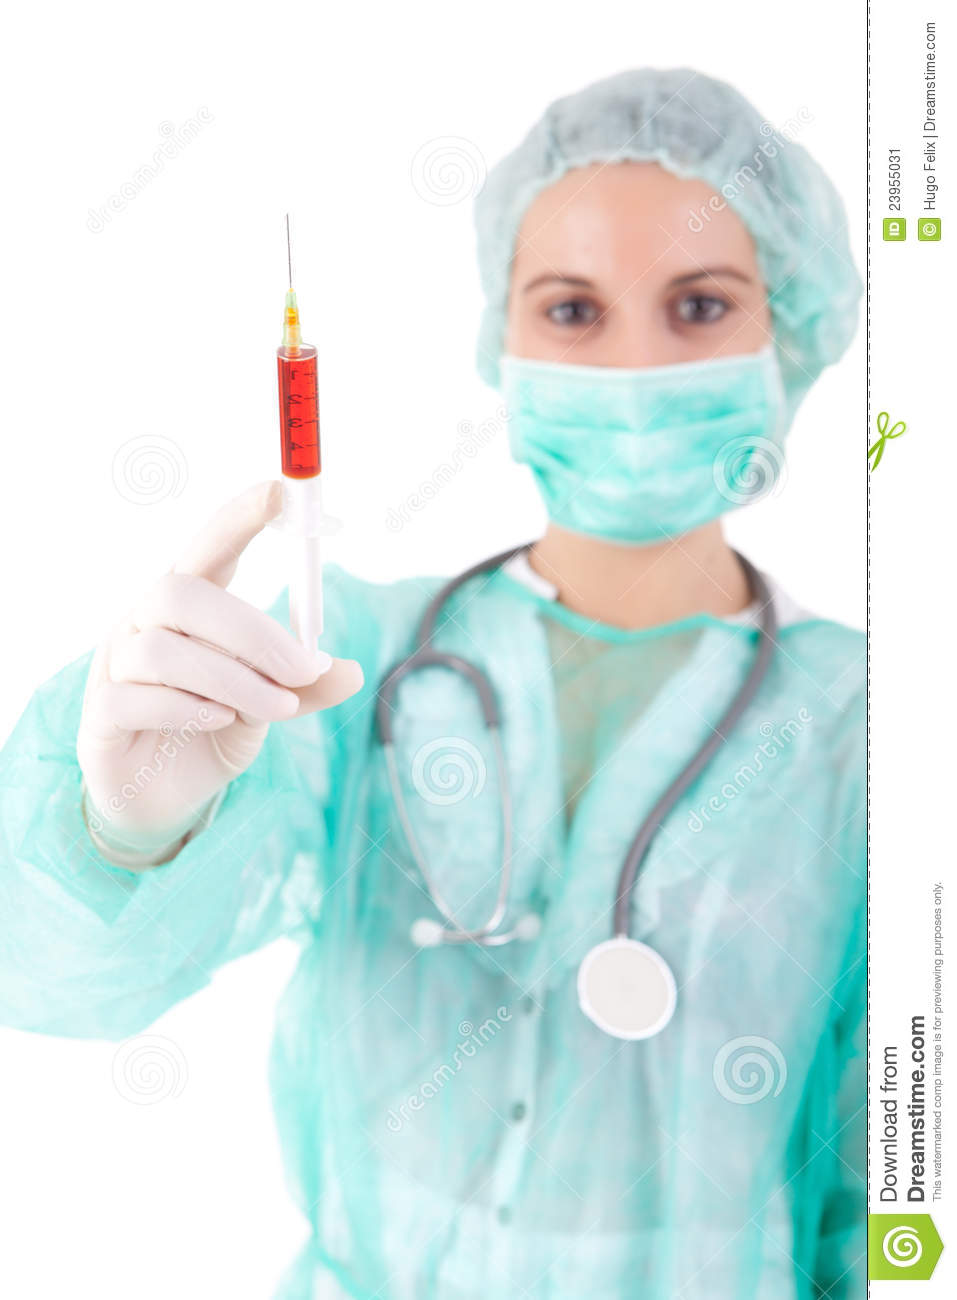mask: (492, 365, 812, 533)
